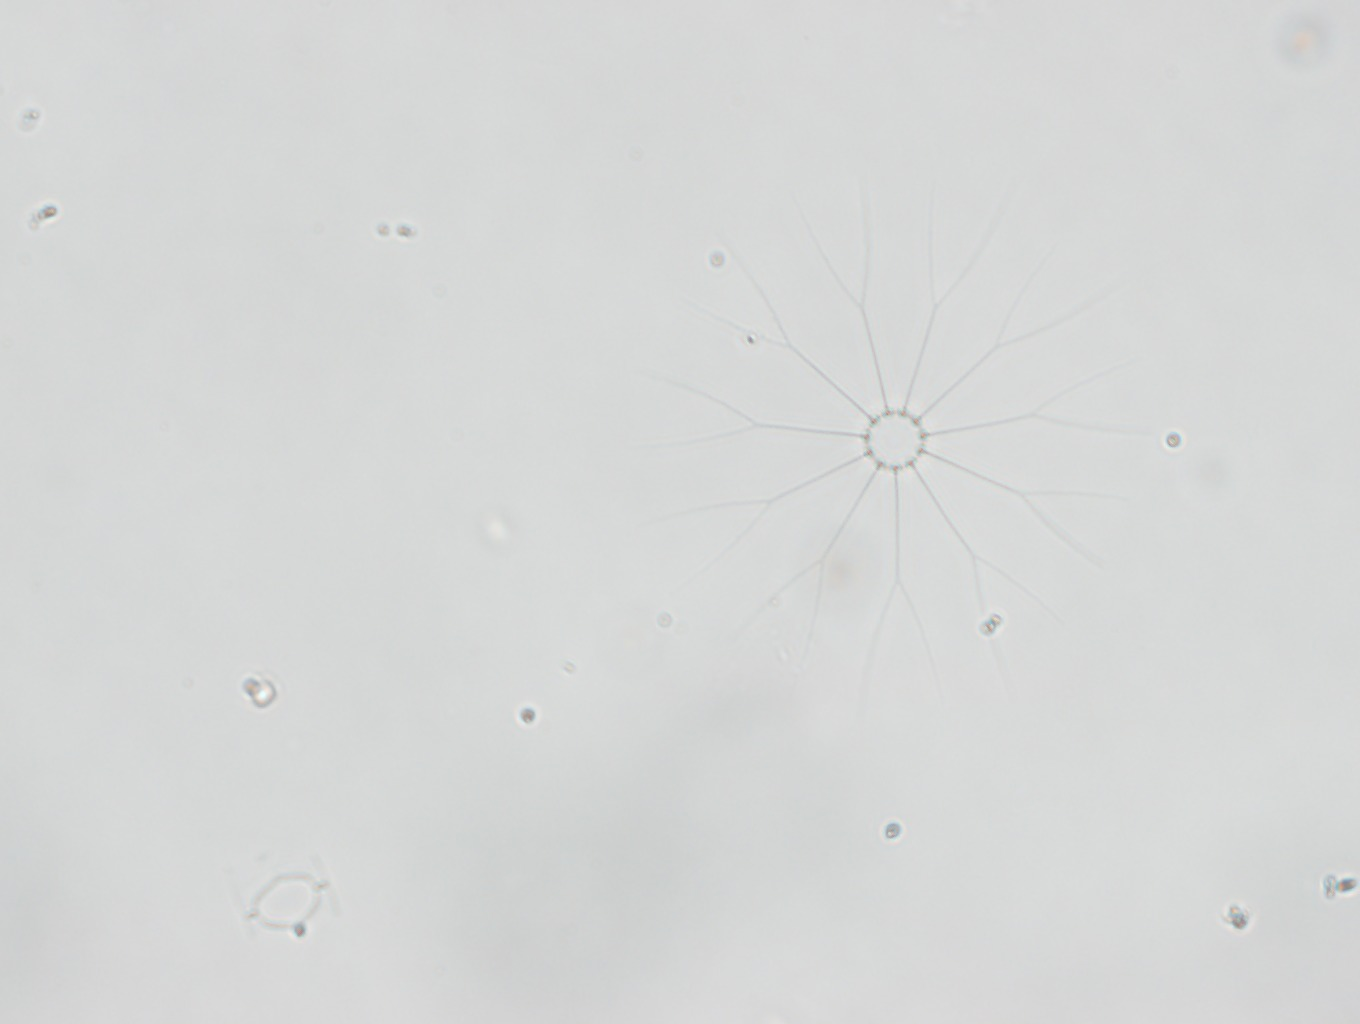bacteriastrum: (636, 173, 1154, 698)
